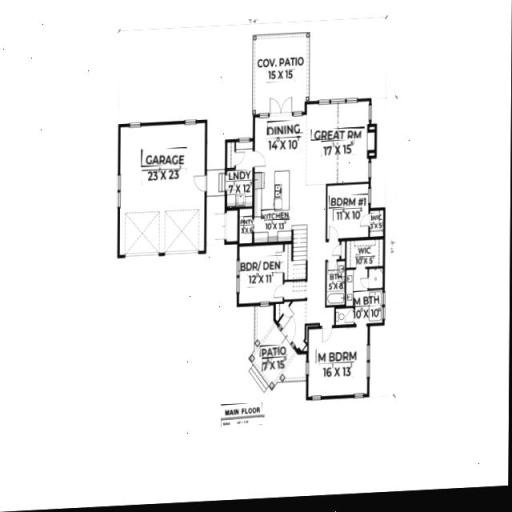Room: (259, 122, 312, 170)
bathroom: (356, 294, 388, 322)
bedroom: (306, 328, 372, 395), (238, 248, 286, 303), (328, 187, 372, 242)
garage: (118, 128, 206, 251)
hall: (310, 104, 370, 181)
kitchen: (264, 213, 292, 239)
